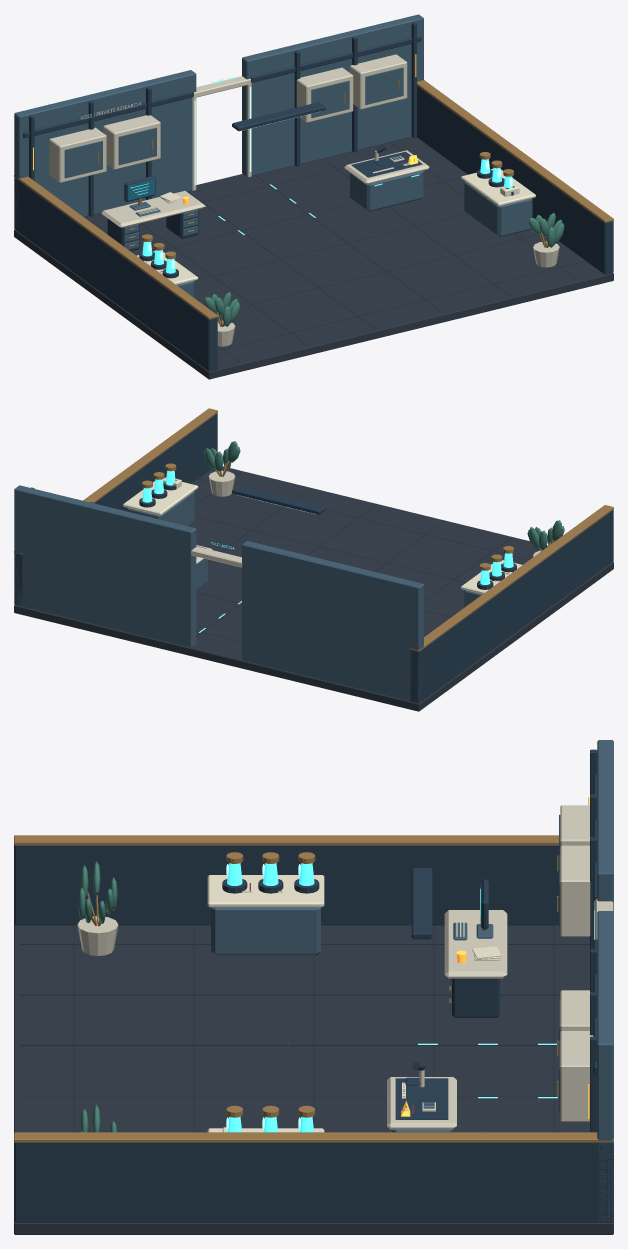
File: laboratory.glb
3 renders of one model, top to bottom at view 1: azimuth 30°, elevation 25°; view 2: azimuth 150°, elevation 25°; view 3: azimuth 270°, elevation 25°, orthographic. The views are drawn at different scales.
Visible parts, largest first — view 1: laboratory_architecture; view 2: laboratory_architecture; view 3: laboratory_architecture.
Boxes of the visible parts, <box> form: laboratory_architecture: <box>14,14,613,379</box>; laboratory_architecture: <box>14,408,613,711</box>; laboratory_architecture: <box>14,740,613,1234</box>.
Size of the model in its own units: 12 by 3.52 by 10.
